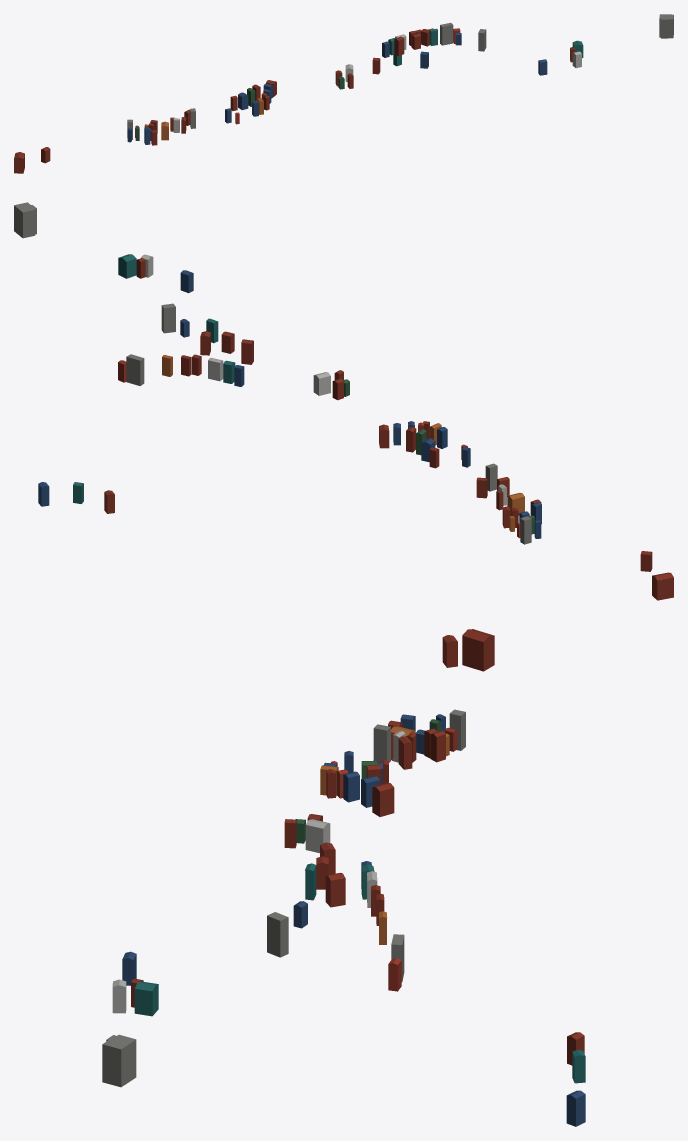
Rendered from near-15-27357-14873.082a3339.glb.
The picture shows the model from 3 angles, top to bottom: view 1: azimuth 30°, elevation 25°; view 2: azimuth 150°, elevation 25°; view 3: azimuth 270°, elevation 25°; orthographic projection. The views are drawn at different scales.
Bounding box in the file's own units: 779 × 134 × 285.
